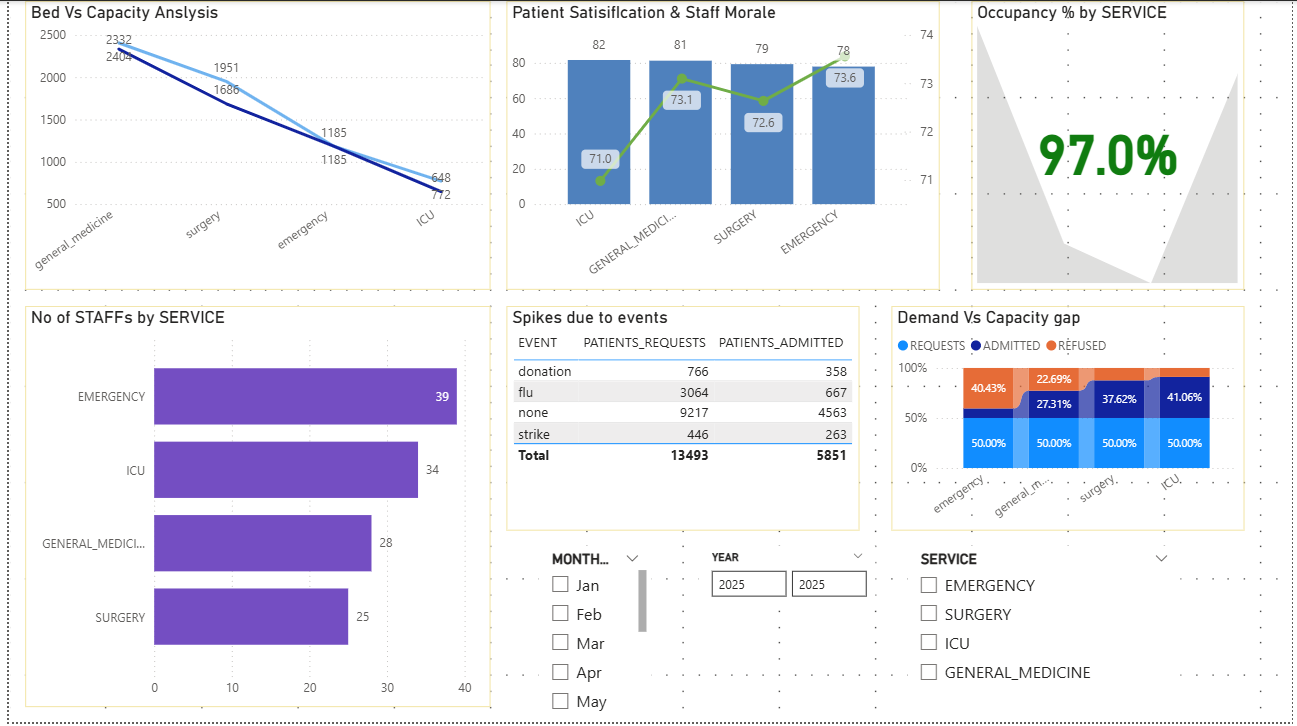

This screenshot's page, from the dashboard's own definition file:
{"tool":"powerbi","page":{"name":"Hospital Operations  & Capacity Insights","canvas":[1280,720],"ordinal":1},"visuals":[{"type":"lineChart","title":"Bed Capacity vs Admissions","fields":{"Y":["Date Table.Avgbeds","services_weekly.Total admitted"],"Category":["services_weekly.SERVICE"]},"box":[16,16,464,288],"z":0},{"type":"barChart","title":"Staff Distribution by Service","fields":{"Category":["Patients.SERVICE","Patients.PATIENTS' ID"],"Y":["Count(staff_schedule.STAFF ID)"]},"box":[16,320,464,384],"z":1000},{"type":"hundredPercentStackedColumnChart","title":"Demand Vs Capacity gap","fields":{"Y":["Sum(services_weekly.PATIENTS_REQUESTS)","Sum(services_weekly.PATIENTS_ADMITTED)","Sum(services_weekly.PATIENTS_REFUSED)"],"Category":["services_weekly.SERVICE"]},"box":[880,320,352,224],"z":2000},{"type":"tableEx","title":"Spikes due to events","fields":{"Values":["services_weekly.EVENT","Sum(services_weekly.PATIENTS_REQUESTS)","Sum(services_weekly.PATIENTS_ADMITTED)"]},"box":[496,320,352,224],"z":3000},{"type":"slicer","fields":{"Values":["Date Table.MONTH NAME"]},"box":[528,560,112,144],"z":4000},{"type":"slicer","fields":{"Values":["Date Table.YEAR"]},"box":[688,560,176,64],"z":5000},{"type":"slicer","fields":{"Values":["Patients.SERVICE"]},"box":[896,560,272,144],"z":6000},{"type":"kpi","fields":{"Indicator":["Date Table.Occupancy %"],"TrendLine":["Patients.SERVICE"]},"box":[960,16,272,288],"z":7000},{"type":"lineClusteredColumnComboChart","title":"Patient Satisfication & Staff Morale  by Service","fields":{"Category":["Patients.SERVICE"],"Y":["Date Table.Avg Satisifaction"],"Y2":["Date Table.Avg staff morale"]},"box":[496,16,432,288],"z":8000}]}

Visuals, with their boxes in screenshot pixels (x1, y1, x2, y2), scaled from the page's 1280x720 canvas onto the 1297x726 screenshot:
"Bed Capacity vs Admissions" lineChart: l=16, t=16, r=486, b=307
"Staff Distribution by Service" barChart: l=16, t=323, r=486, b=710
"Demand Vs Capacity gap" hundredPercentStackedColumnChart: l=892, t=323, r=1248, b=549
"Spikes due to events" tableEx: l=503, t=323, r=859, b=549
slicer - Date Table.MONTH NAME: l=535, t=565, r=648, b=710
slicer - Date Table.YEAR: l=697, t=565, r=875, b=629
slicer - Patients.SERVICE: l=908, t=565, r=1184, b=710
kpi - Date Table.Occupancy % x Patients.SERVICE: l=973, t=16, r=1248, b=307
"Patient Satisfication & Staff Morale  by Service" lineClusteredColumnComboChart: l=503, t=16, r=940, b=307
